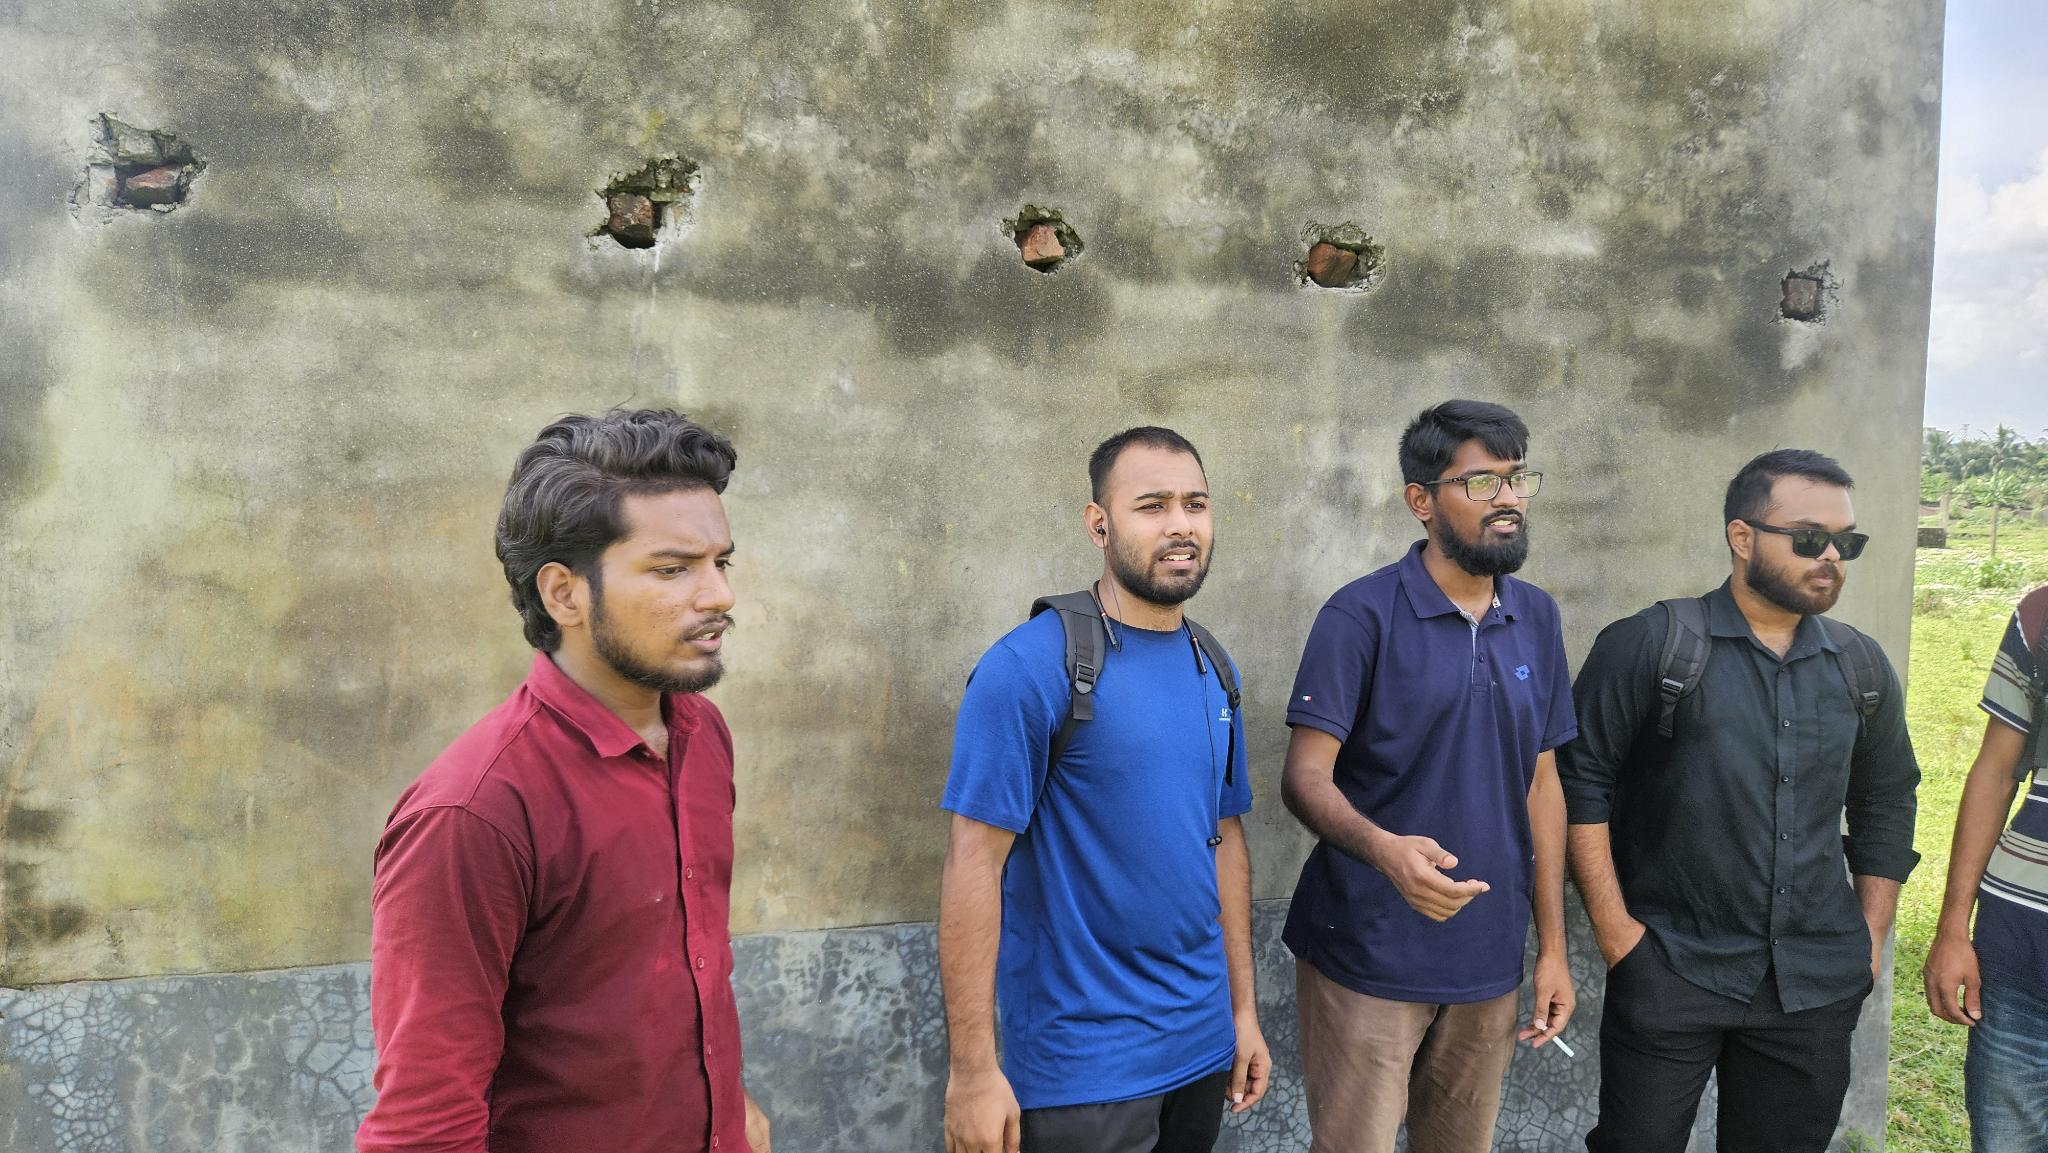cigarette: (1550, 1033, 1578, 1060)
nonSmoker: (354, 409, 767, 1153), (1566, 450, 1919, 1153), (942, 427, 1270, 1153), (1924, 584, 2048, 1150)
smoker: (1281, 398, 1580, 1153)
